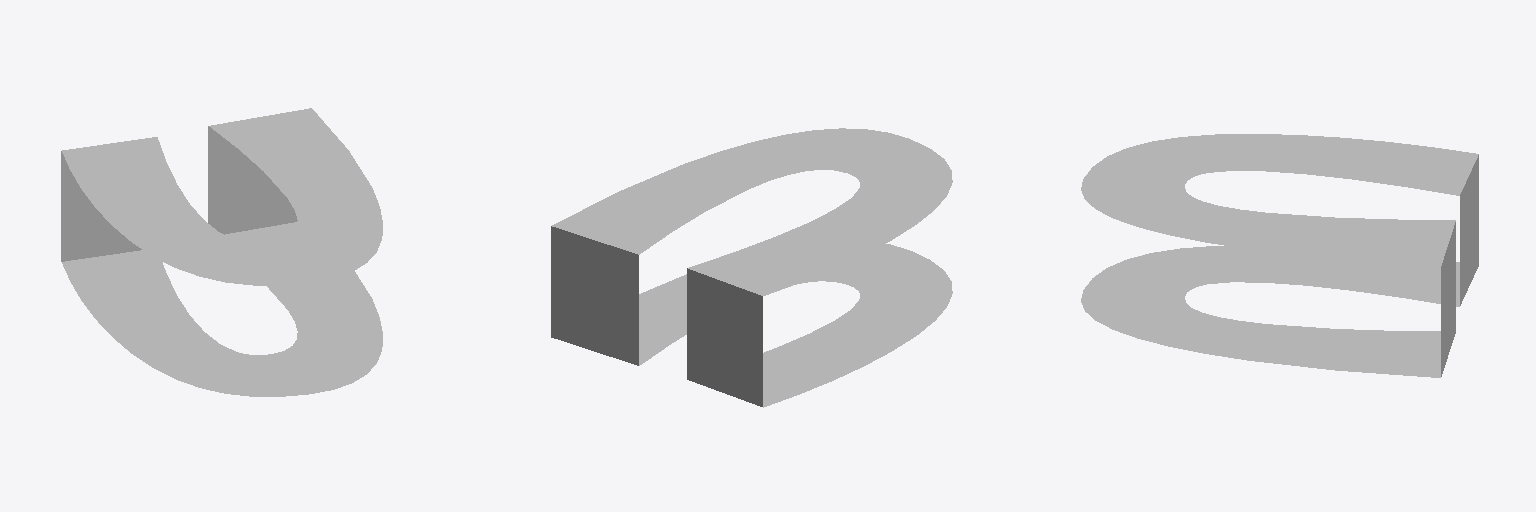
File: u2_chrome.obj
3 renders of one model, left to right at view 1: azimuth 30°, elevation 25°; view 2: azimuth 150°, elevation 25°; view 3: azimuth 270°, elevation 25°, orthographic.
Size of the model in its own units: 0.6412 by 0.25 by 0.8106.